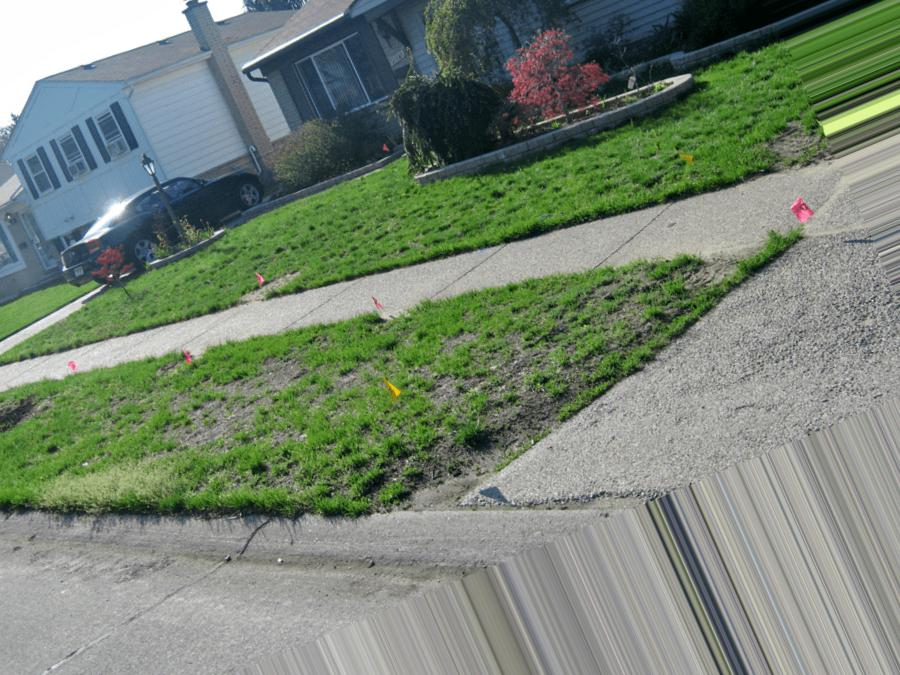patch: (334, 347, 515, 421), (153, 374, 311, 444), (72, 455, 184, 522), (400, 435, 475, 483)
